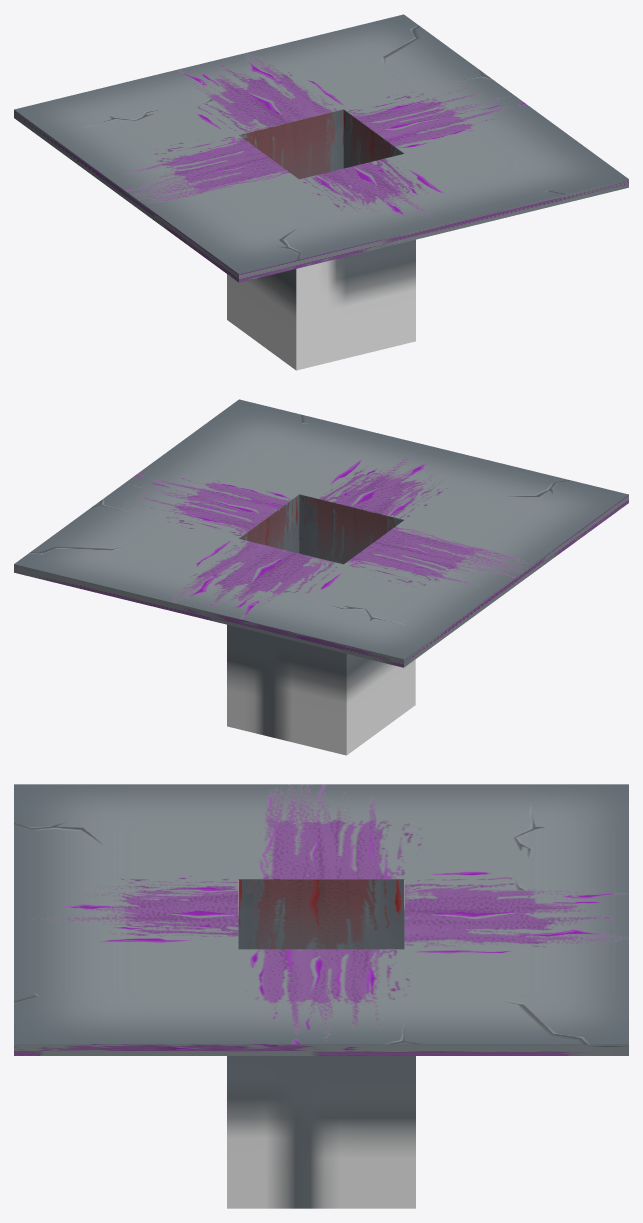
Rendered from 5x5 1 rupa.fbx.
3 renders of one model, top to bottom at view 1: azimuth 30°, elevation 25°; view 2: azimuth 150°, elevation 25°; view 3: azimuth 270°, elevation 25°, orthographic. The views are drawn at different scales.
Visible parts, largest first — view 1: Cube, Cube_008.001; view 2: Cube, Cube_008.001; view 3: Cube, Cube_008.001.
Part boxes in pixels (x1,y1,x2,y2): Cube: (14, 14, 628, 282); Cube_008.001: (227, 109, 415, 370); Cube: (14, 399, 628, 667); Cube_008.001: (227, 494, 415, 755); Cube: (14, 784, 628, 1055); Cube_008.001: (227, 879, 415, 1208).
Size of the model in its own units: 500 by 228 by 500.
2 materials, 2 textured.
